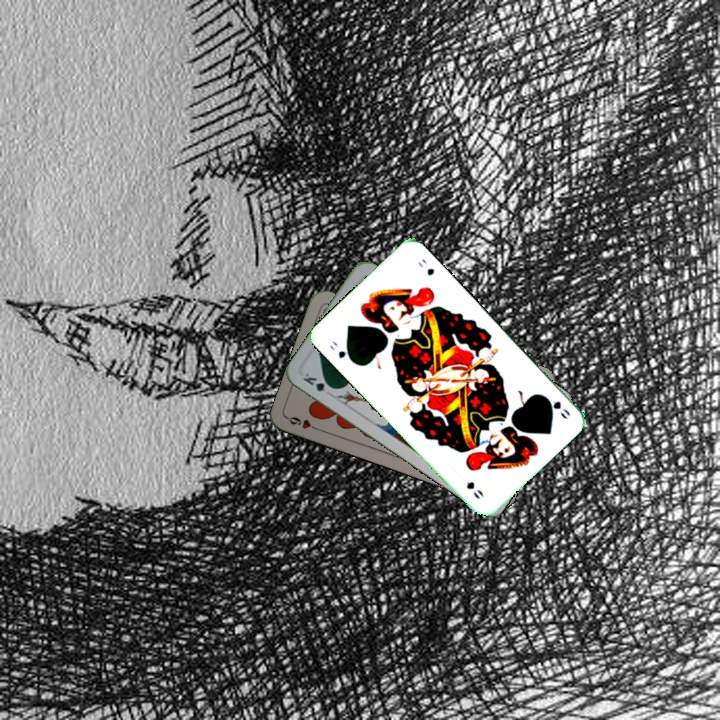GK: (299, 369, 337, 395)
GO: (538, 391, 573, 422), (325, 337, 356, 365)
H9: (283, 413, 323, 433)
